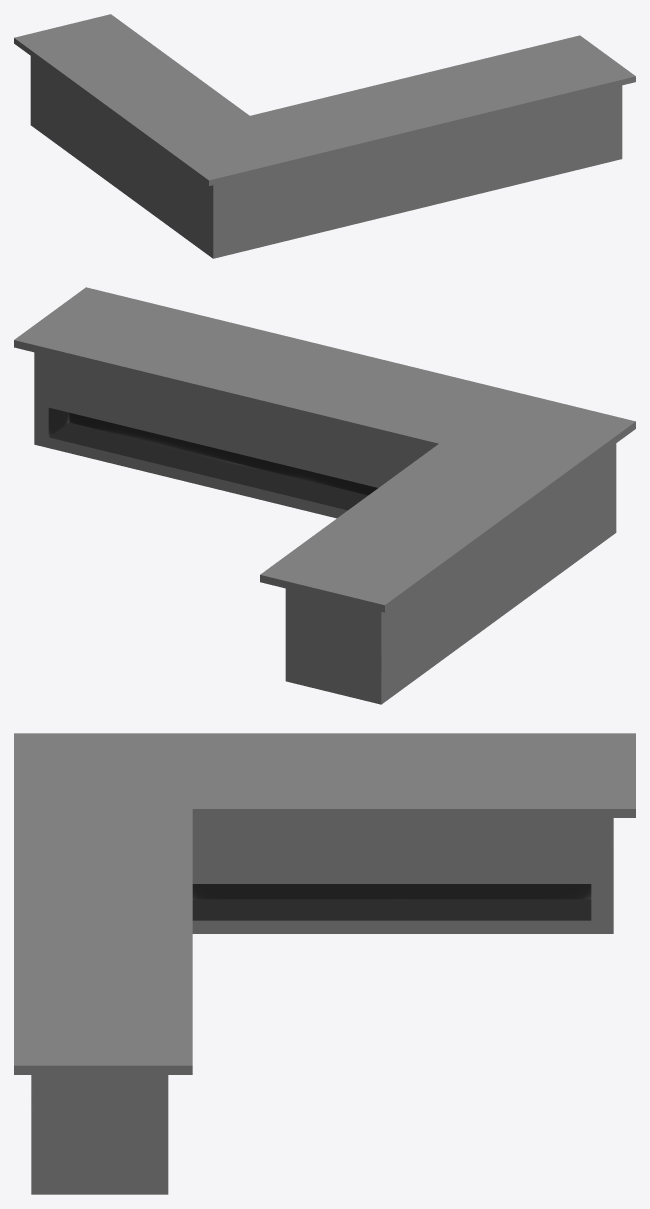
Rendered from Table.fbx.
3 views of the same model, one above another, from view 1: azimuth 30°, elevation 25°; view 2: azimuth 150°, elevation 25°; view 3: azimuth 270°, elevation 25° (orthographic). The views are drawn at different scales.
Parts seen in each view (by area): view 1: Table; view 2: Table; view 3: Table.
Boxes of the visible parts, x1,y1,x2,y2 form: Table: (14, 14, 635, 258); Table: (14, 287, 635, 704); Table: (14, 733, 635, 1194).
Bounding box in the file's own units: 1550 × 294 × 1226.
